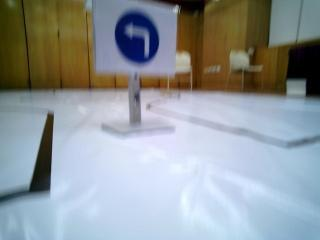left: (106, 3, 177, 69)
